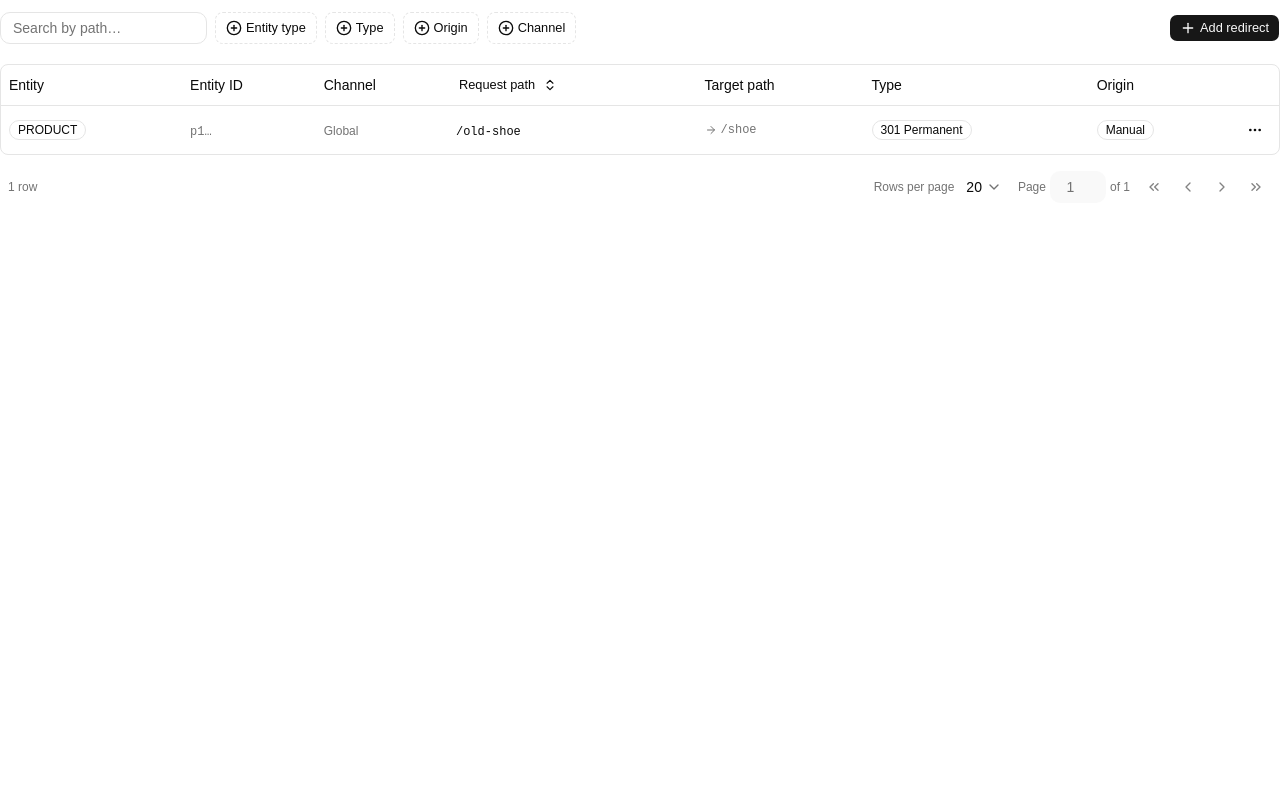
Test: UrlRewritesListPage delete › closes once the delete goes through
Press the mouse on the button named "Actions for /old-shoe" at (1255, 130), box x1=1239 y1=114 x2=1271 y2=146
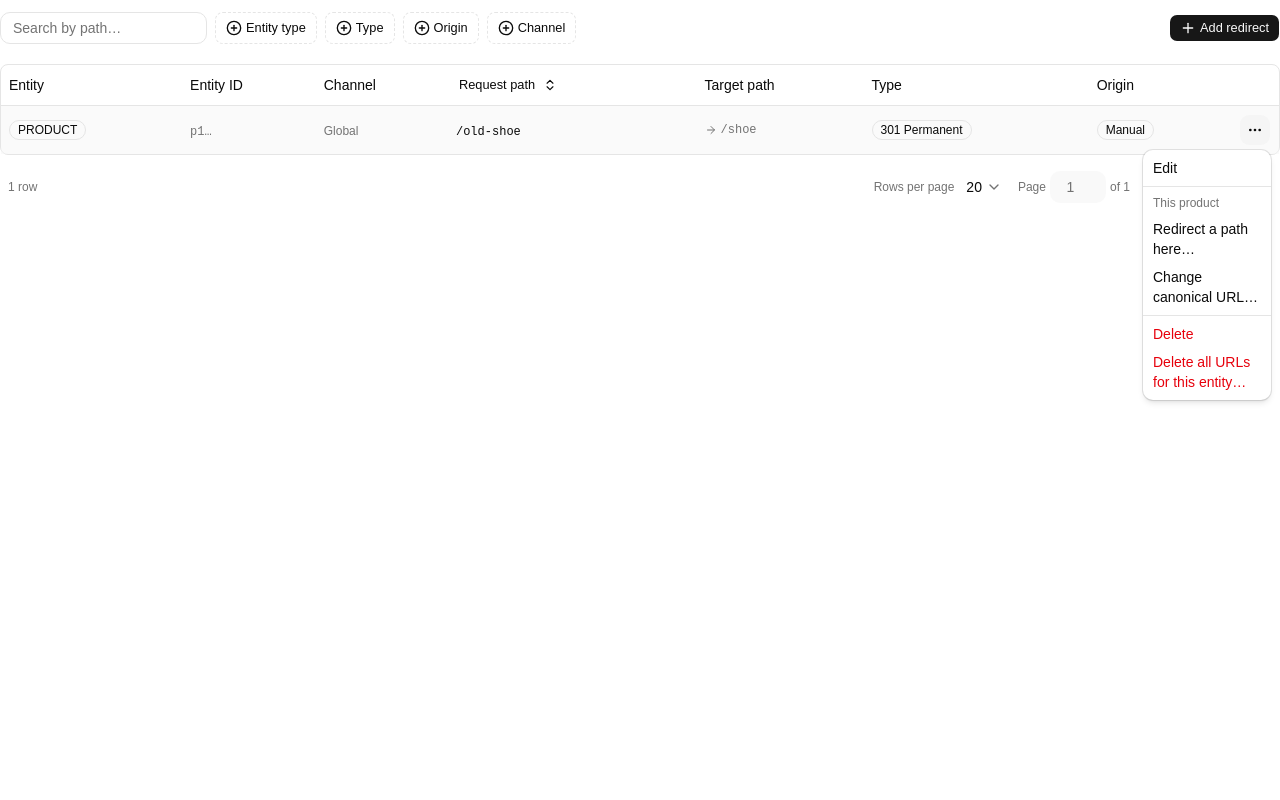
Check: the menu item "Delete" is shown
Click the menu item "Delete".
click(1173, 334)  # box x1=1153 y1=326 x2=1194 y2=342
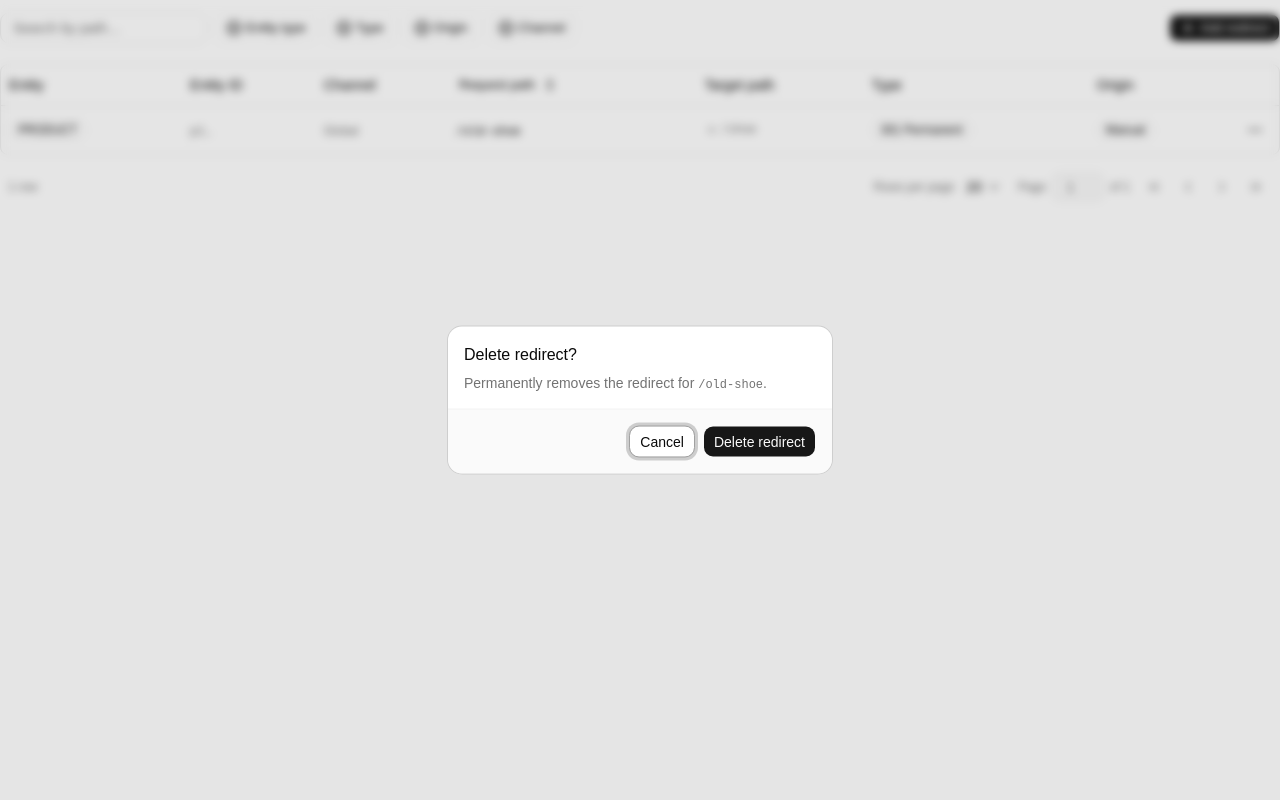
Click the button "Delete redirect".
click(760, 442)  # box x1=703 y1=426 x2=816 y2=458
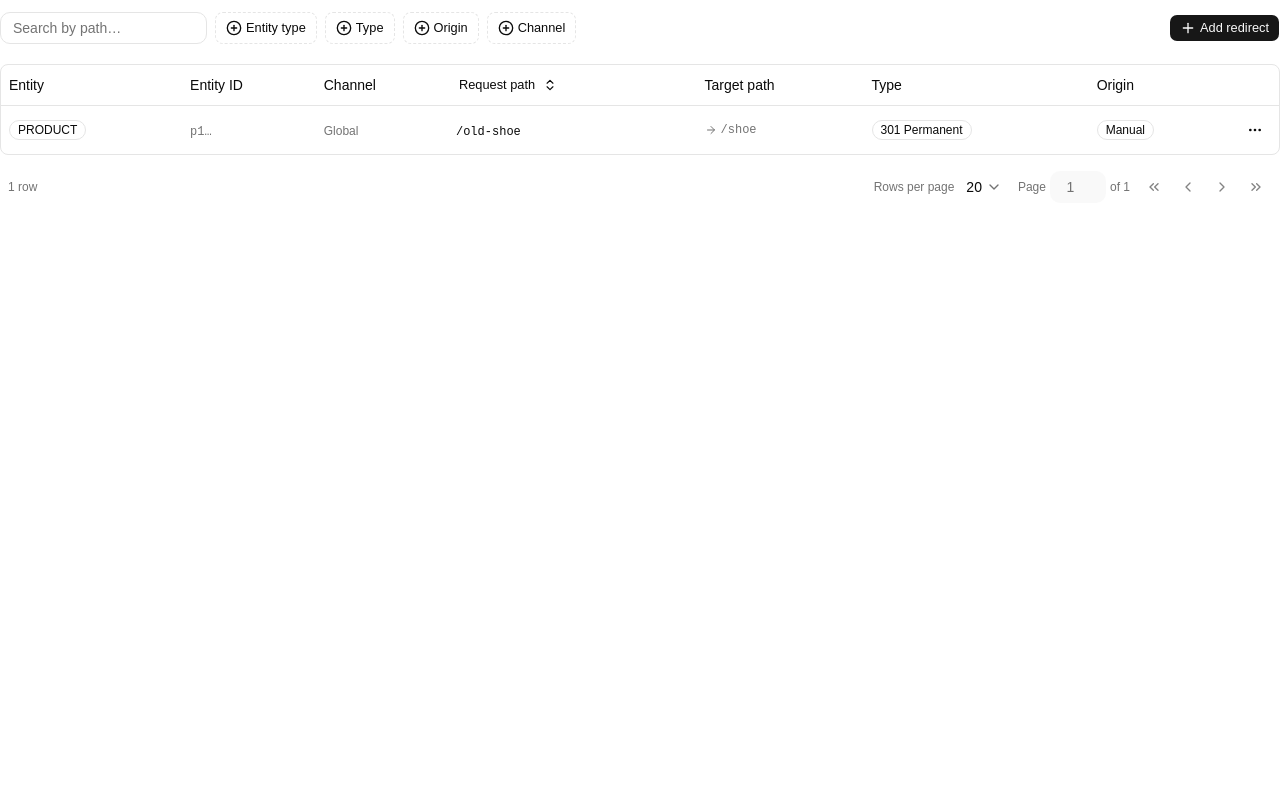
Check: the dialog is gone
